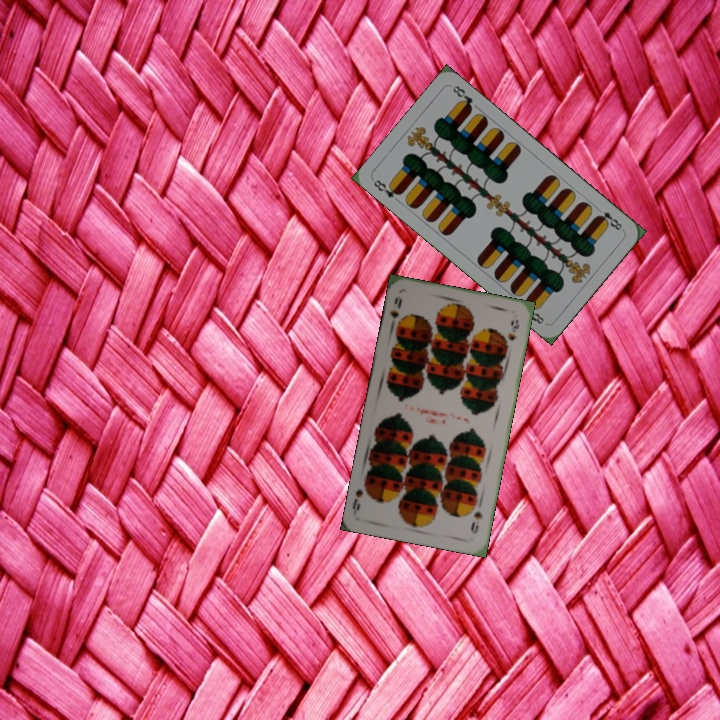E8: (592, 203, 626, 233), (369, 175, 404, 200)
S9: (386, 293, 405, 331), (466, 507, 485, 536)
